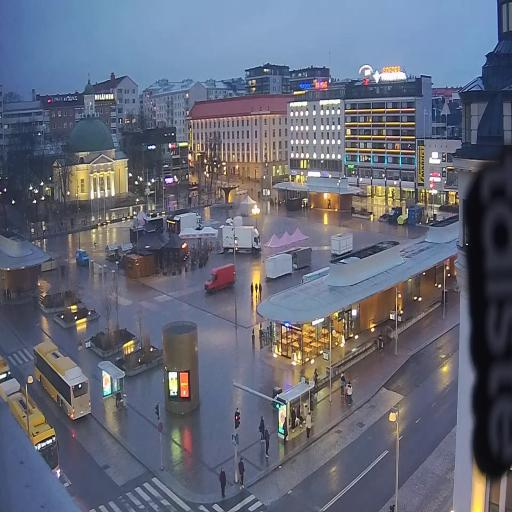bus: (0, 376, 66, 498), (30, 336, 93, 426), (0, 341, 13, 391)
delivery: (202, 261, 239, 298), (219, 224, 264, 254), (170, 202, 205, 236), (222, 211, 247, 231), (74, 245, 91, 271)
